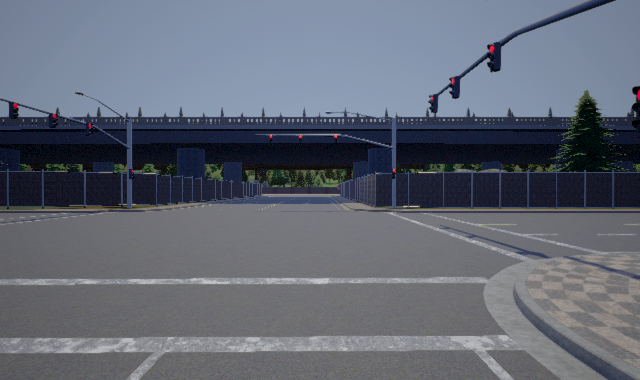traffic_light: (487, 42, 501, 73), (632, 86, 640, 138), (449, 76, 460, 99), (429, 94, 438, 113), (9, 102, 19, 119), (49, 113, 58, 128), (86, 123, 93, 136), (129, 169, 135, 179), (392, 169, 396, 179), (269, 135, 273, 145), (334, 135, 337, 145), (299, 135, 302, 145)
